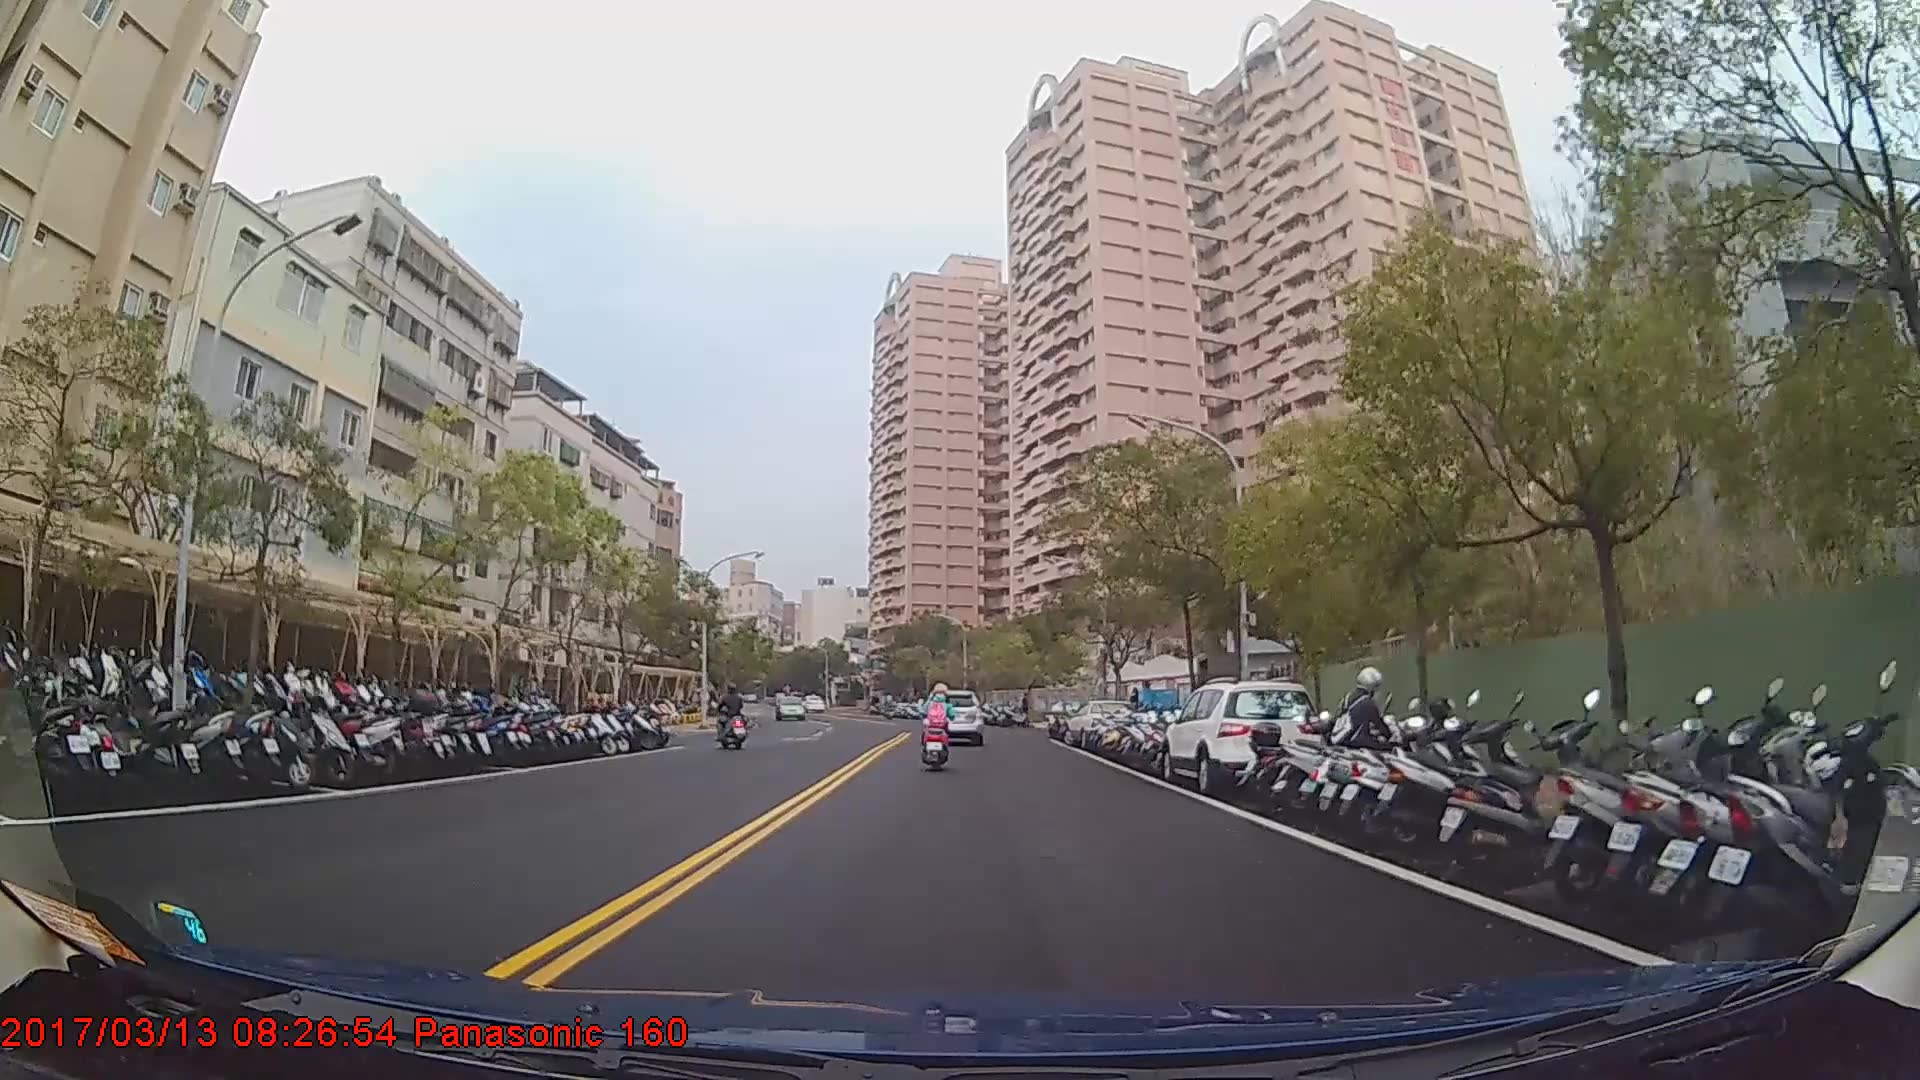rider: (919, 680, 956, 774), (716, 680, 746, 743)
vehicle: (1159, 681, 1321, 795), (1061, 697, 1141, 751), (925, 686, 983, 743), (772, 694, 805, 718)
